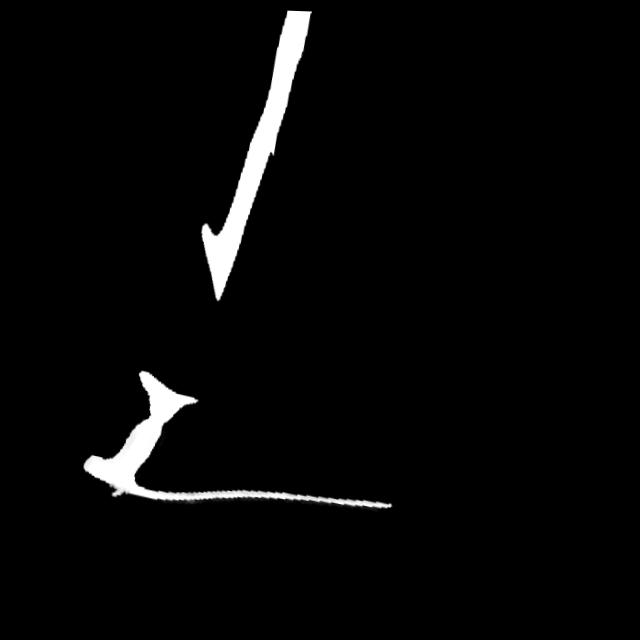sup_pli: (106, 483, 126, 500)
